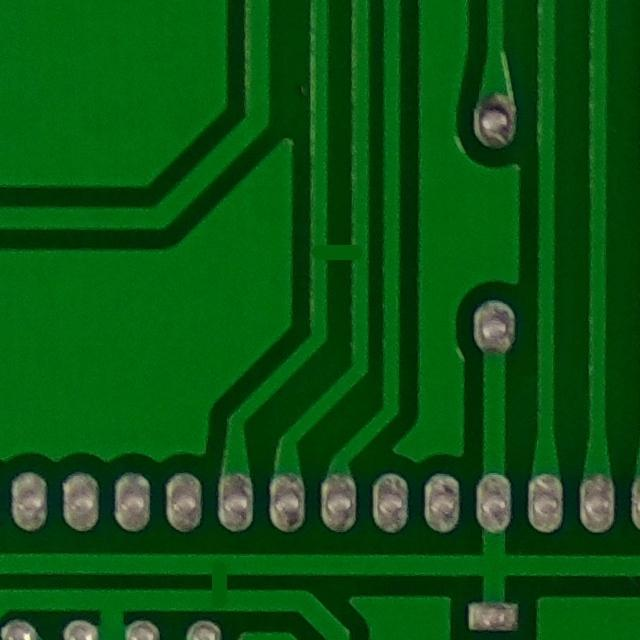short: (186, 548, 251, 615), (300, 224, 375, 279)
